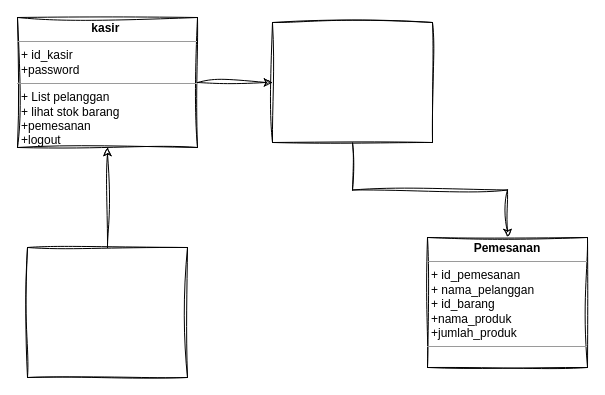
Some shapes in this 605 by 395 pixel diagram are drawn without their labels. The shapes that lost their labels are listed below. From the top down, each one's centre as x and y in pixels, then its label:
[352,82]: Costomer + Nama + id_customer + pilih_produk + transaksi
[107,312]: Produk + id_barang + nama_barang + Harga_barang + Tambah + hapus + simpan
